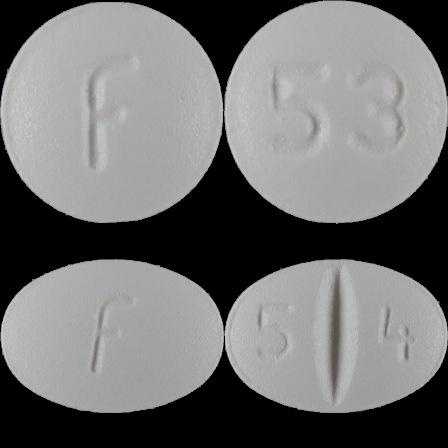65862-373: (0, 0, 224, 224)
